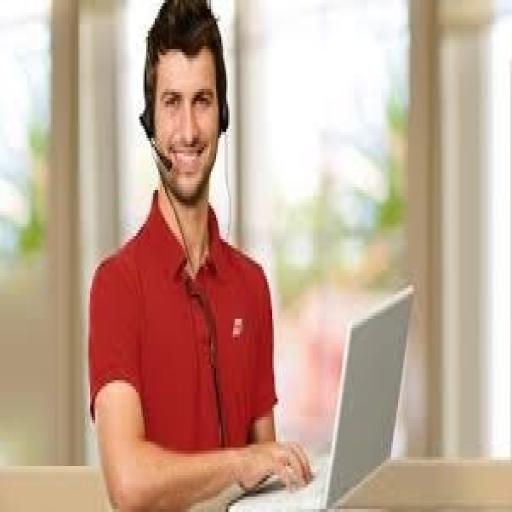calling: (85, 0, 316, 509)
